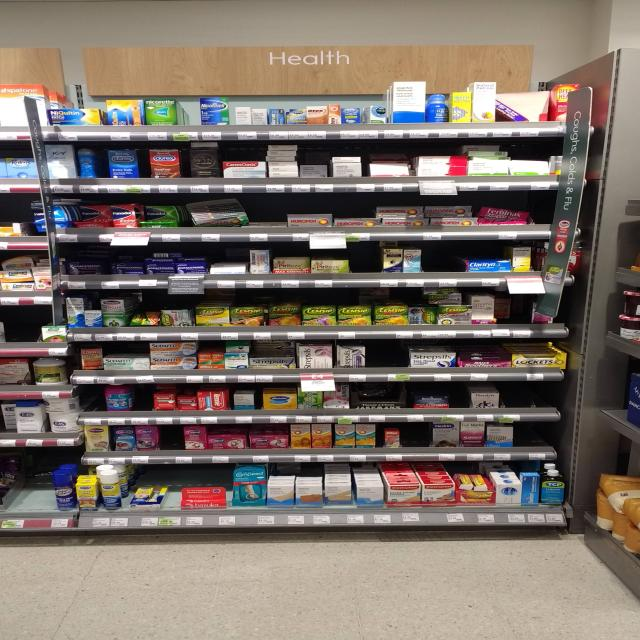void: (0, 449, 25, 530), (27, 448, 50, 530), (424, 239, 464, 286), (0, 306, 36, 356), (374, 339, 412, 382), (250, 198, 286, 242), (530, 382, 562, 421), (514, 419, 556, 446), (353, 242, 378, 286), (402, 419, 429, 459), (501, 381, 526, 420), (161, 423, 185, 463), (529, 191, 547, 239), (134, 384, 155, 424), (518, 294, 537, 338), (88, 384, 101, 424)
